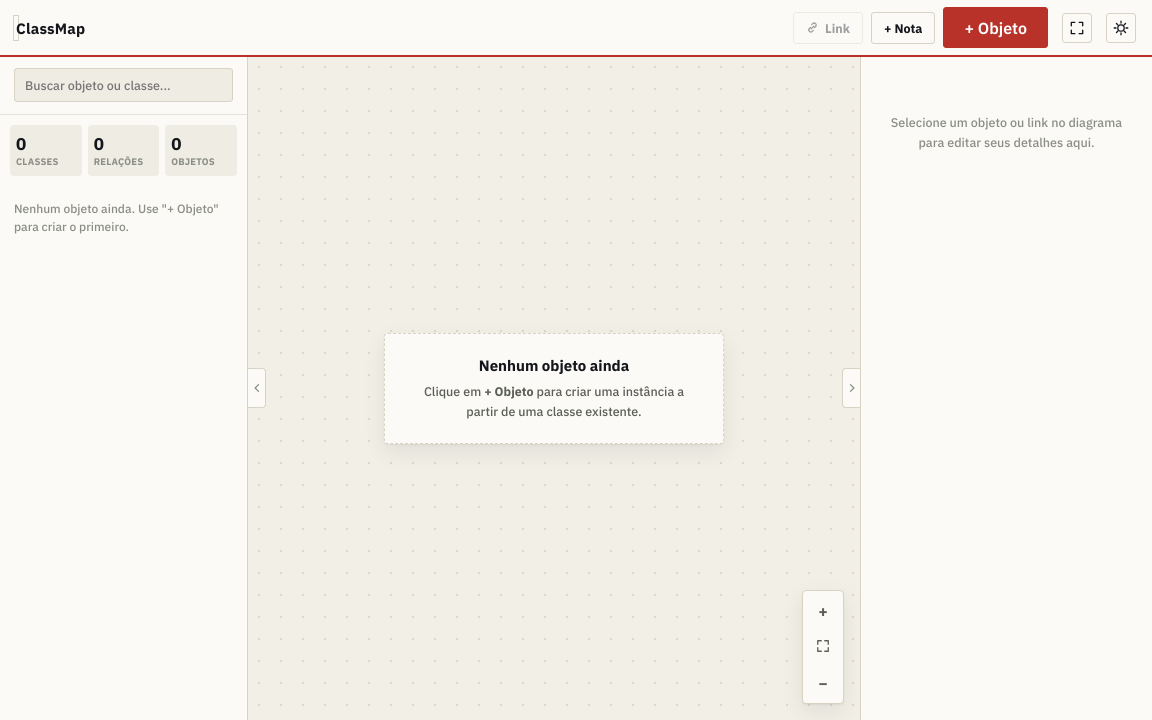
Test case: ObjectDiagramCanvas › CA-02: busca filtra a lista da sidebar por nome da instância ou da classe (case-insensitive)
This screenshot has width=1152, height=720.
Click the button "+ Objeto": [996, 28] box [943,7,1048,48]
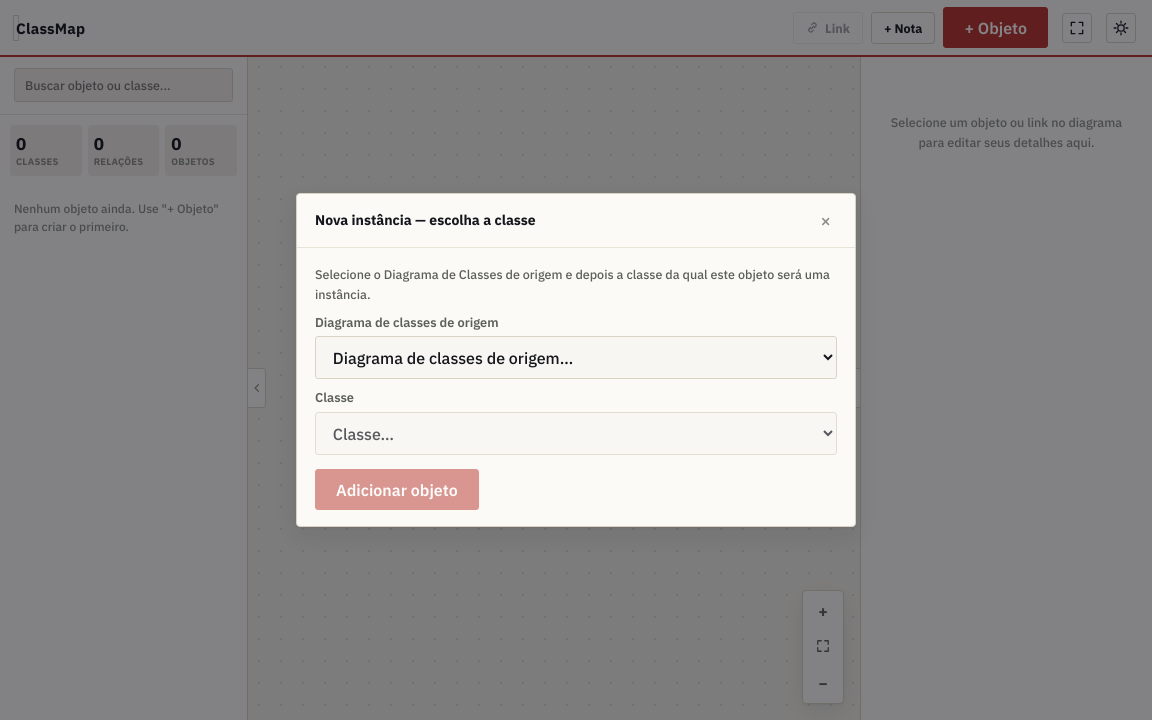
Select "Diagrama de Classes" in the dropdown showing "Diagrama de classes de origem…": [576, 358] box [315,336,837,379]
Select "Pedido" in the dropdown showing "Classe…": [576, 434] box [315,412,837,455]
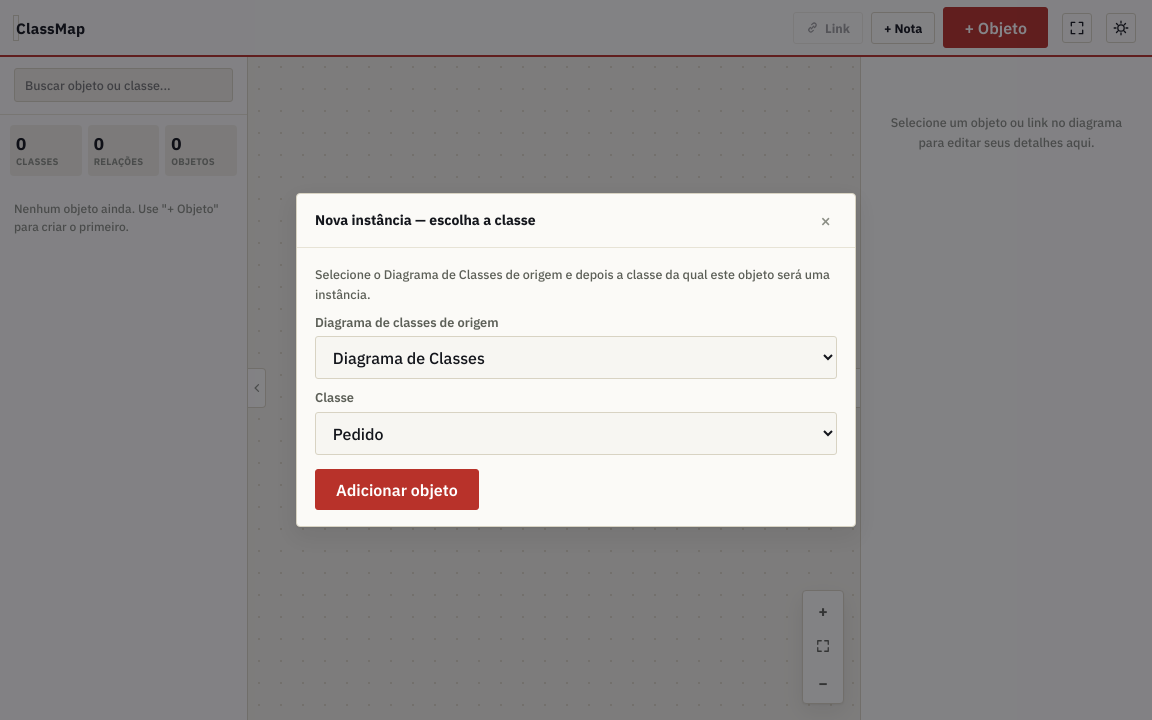
Click the button "Adicionar objeto": [397, 490] box [315,469,479,510]
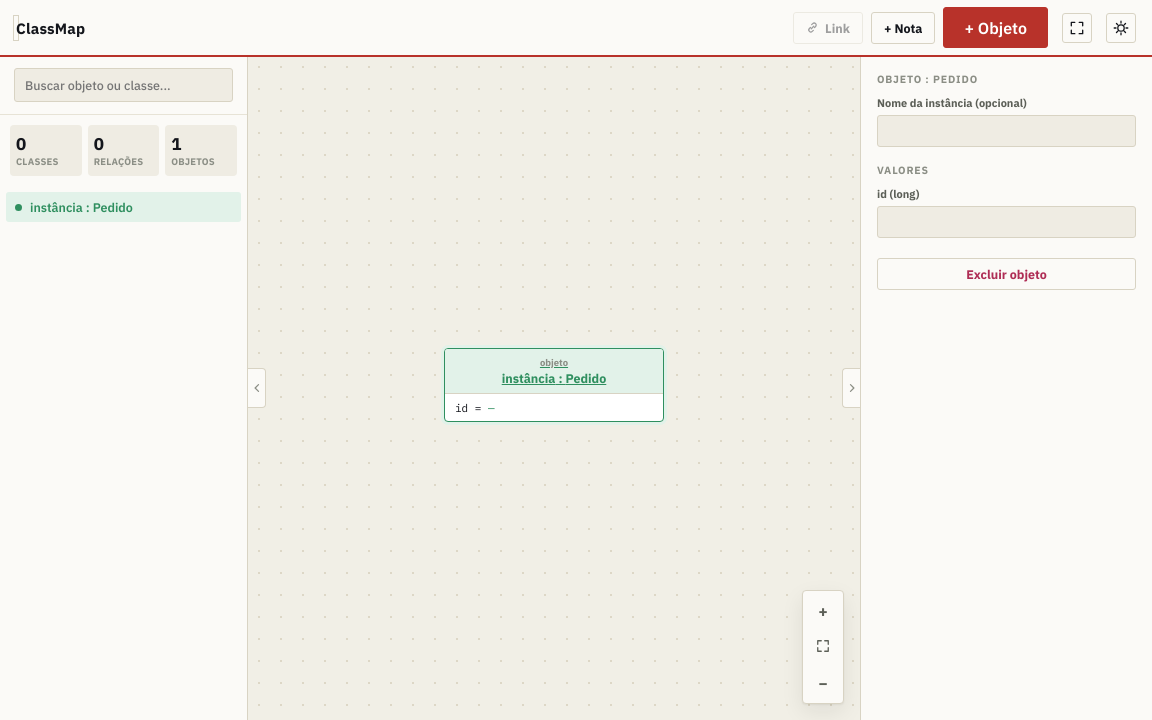
Press the mouse on the button with class "node-box": [554, 385] box [444,348,664,422]
In the field labelled "Nome da instância (opcional)": [1006, 131] box [877,115,1136,147], type "pedido1"
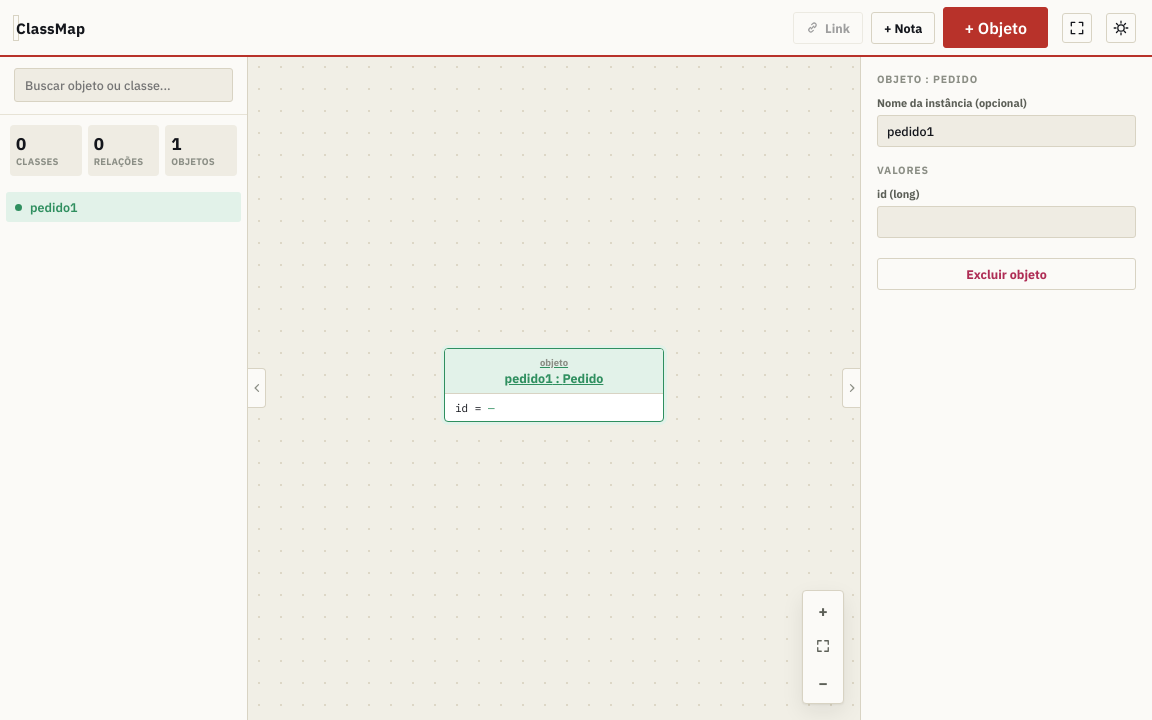
In the field with placeholder "Buscar objeto ou classe...": [124, 85] box [14,68,233,102], type "PED"
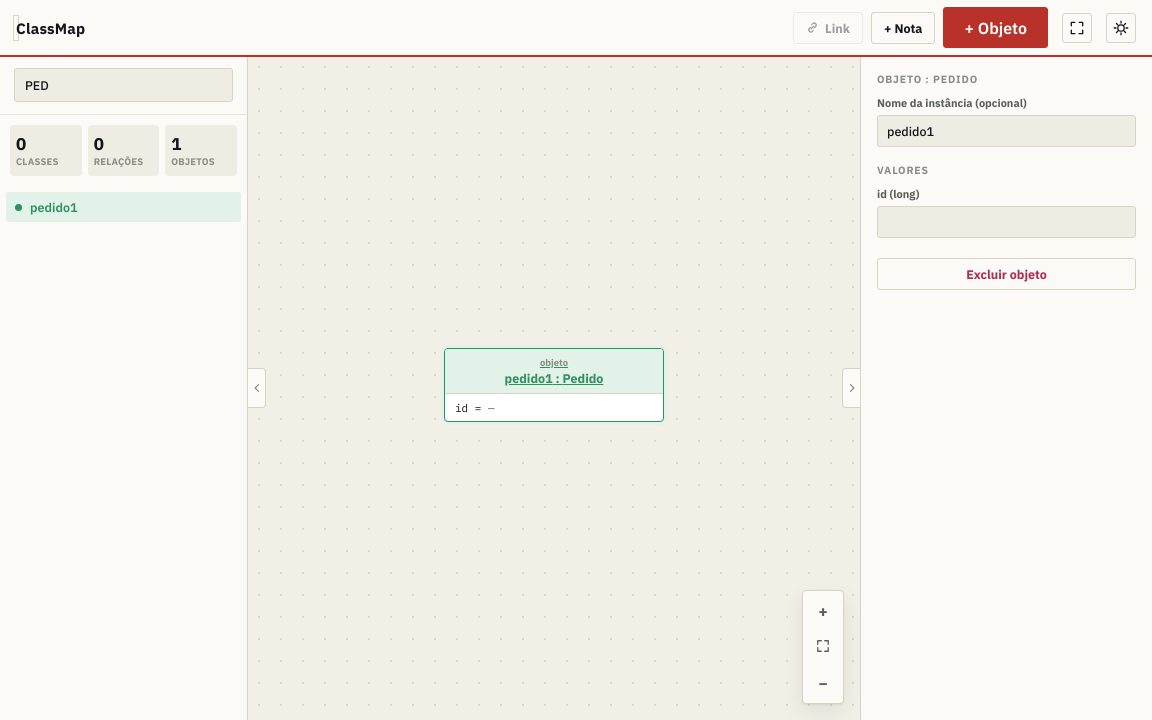
Check: the text "pedido1" is shown, box [30,199,78,215]
Replace the text in the field with placeholder "Buscar objeto ou classe..." with "zzz": [124, 85] box [14,68,233,102]
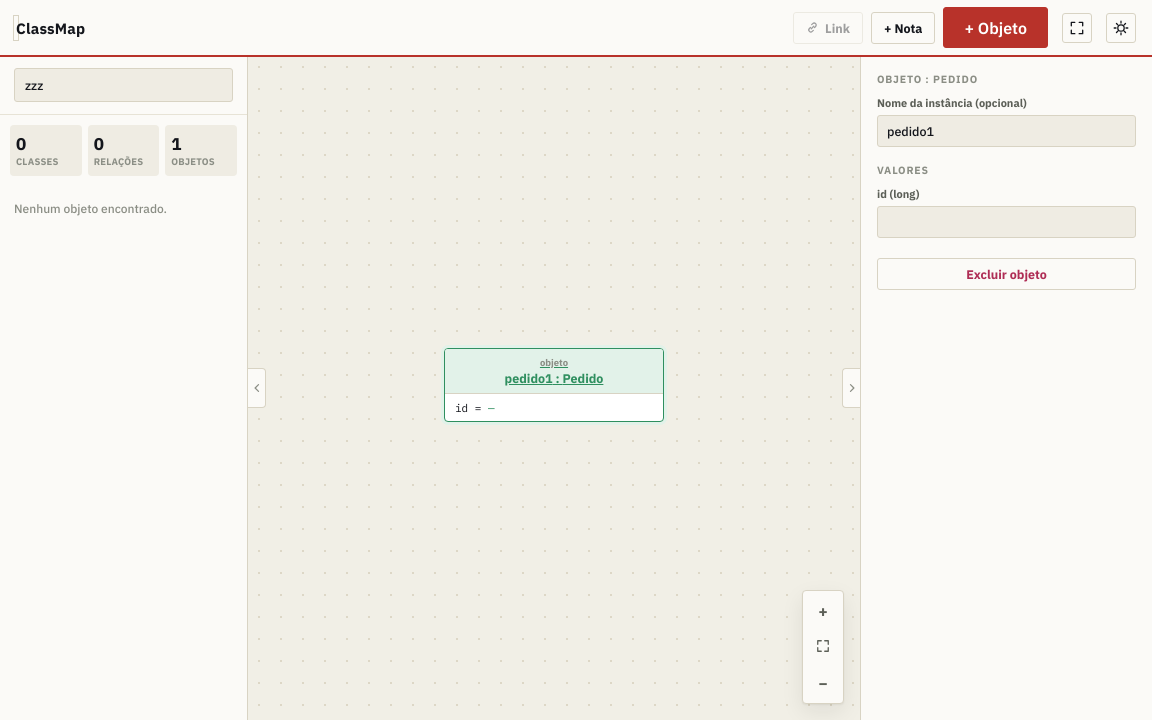
Check: the text "Nenhum objeto encontrado." is shown, box [14,201,167,216]
